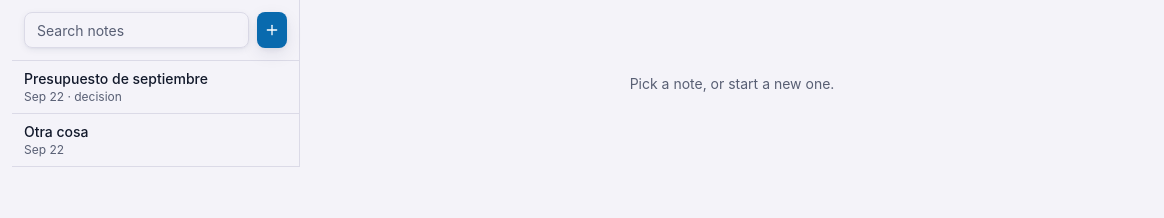
Test: the notes page › says who set the category when the person did
Click the text "Presupuesto de septiembre".
click(116, 78)  # box [24,70,208,87]
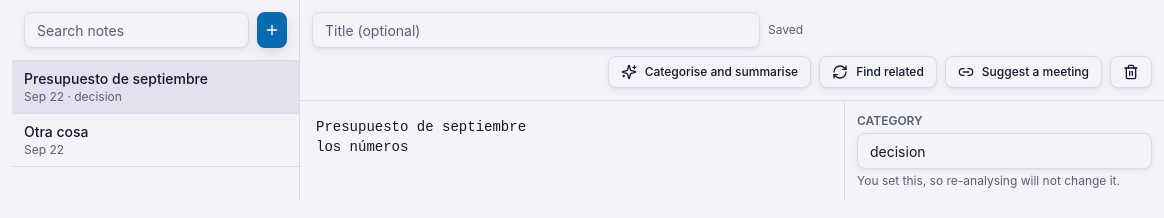
Check: the text "You set this, so re-analysing will not change it." is shown, box [857,173,1152,189]
